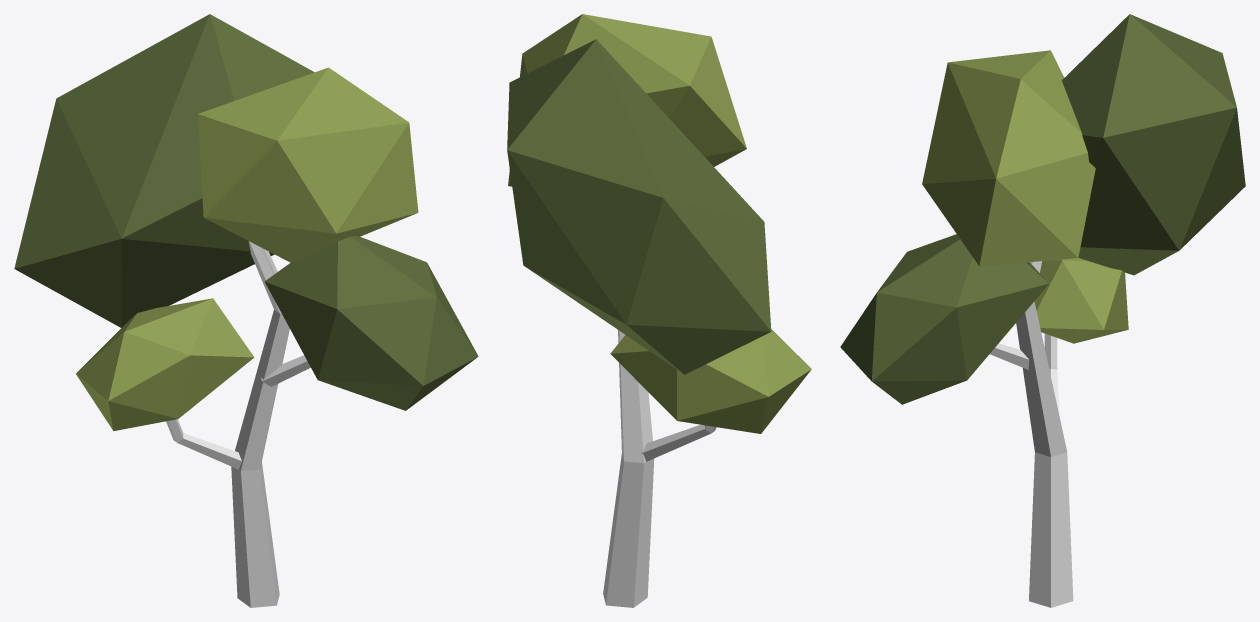
Rendered from arvore-casca.glb.
3 views of the same model, side by side, from view 1: azimuth 30°, elevation 25°; view 2: azimuth 150°, elevation 25°; view 3: azimuth 270°, elevation 25° (orthographic). The views are drawn at different scales.
Parts seen in each view (by area): view 1: tree01; view 2: tree01; view 3: tree01.
Boxes of the visible parts, x1,y1,x2,y2 form: tree01: (14,14,478,607); tree01: (507,14,811,607); tree01: (840,14,1245,607).
Bounding box in the file's own units: 308 × 509 × 324.
2 materials, 1 textured.
